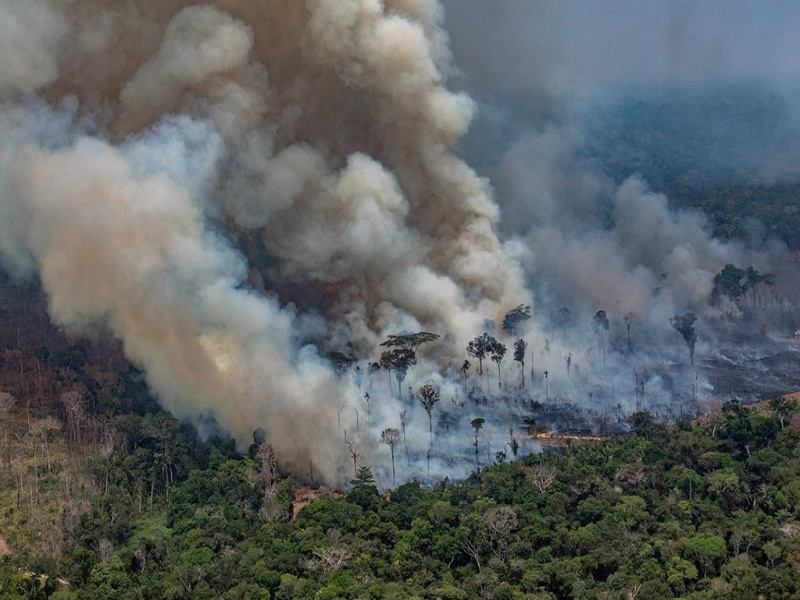smoke: (3, 1, 493, 332)
